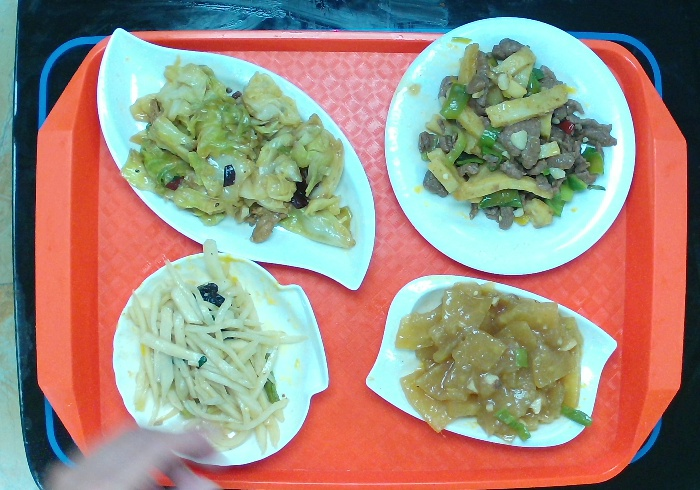RJxy-Bei_Ke_Wan: (109, 248, 334, 469)
RJxy-Jian_Jiao_Fang_Die: (362, 271, 620, 450)
RJxy-Jian_Jiao_Pan: (94, 24, 378, 295)
RJxy-Yuan_Pan: (381, 14, 642, 278)
